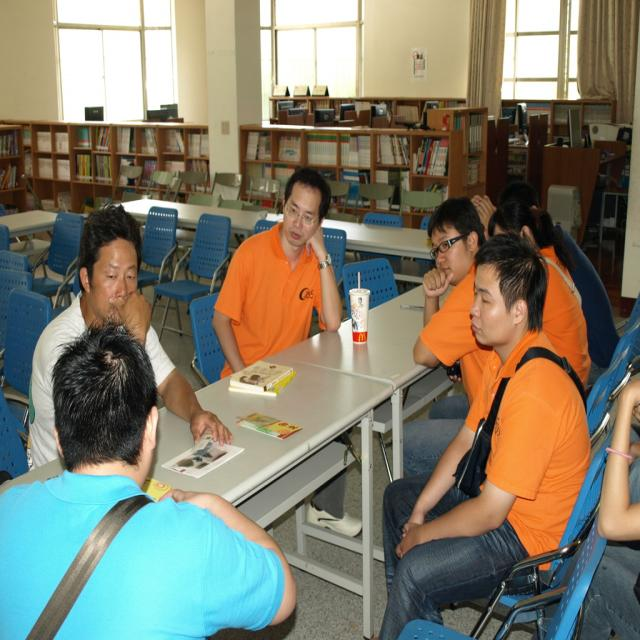chair: (458, 409, 616, 638), (24, 493, 154, 639), (151, 213, 231, 339), (1, 289, 52, 403), (30, 212, 86, 300), (138, 203, 178, 305), (190, 291, 228, 387), (342, 258, 398, 312), (0, 386, 29, 480), (356, 184, 396, 212), (211, 172, 242, 198)
desk: (110, 335, 424, 609)
person: (1, 322, 298, 638), (378, 233, 590, 639), (26, 203, 233, 470), (212, 167, 344, 378), (486, 181, 592, 397), (411, 195, 499, 432), (595, 365, 640, 625)
